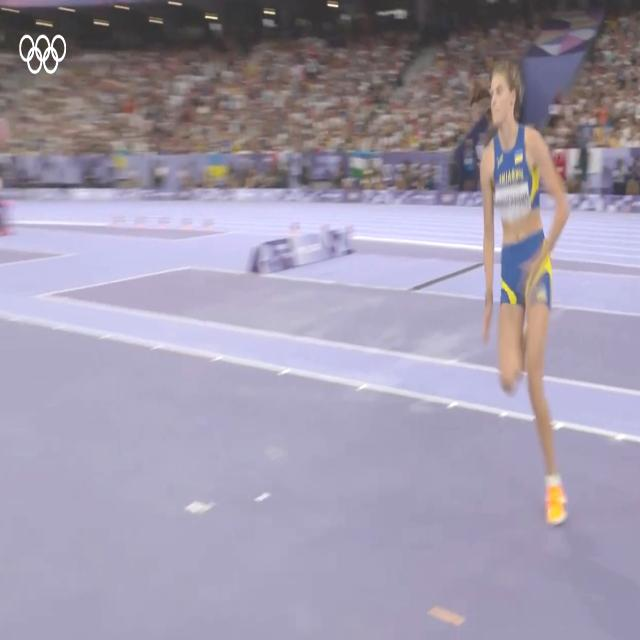run: (469, 59, 571, 526)
